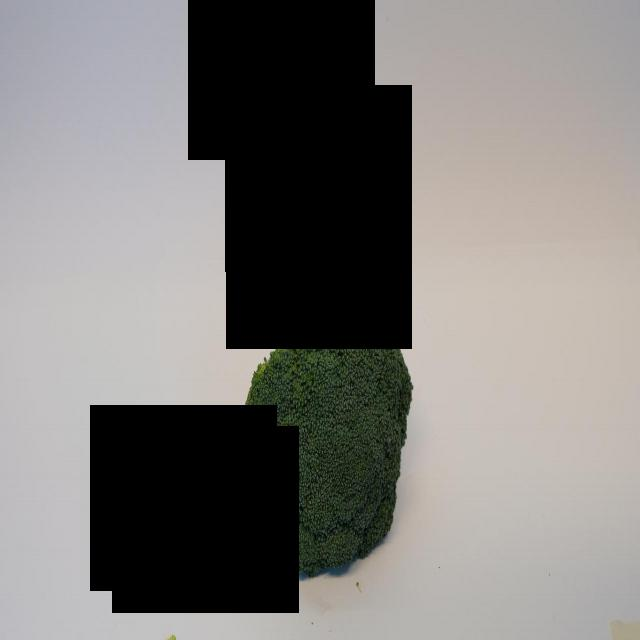broccoli: (242, 268, 415, 582)
